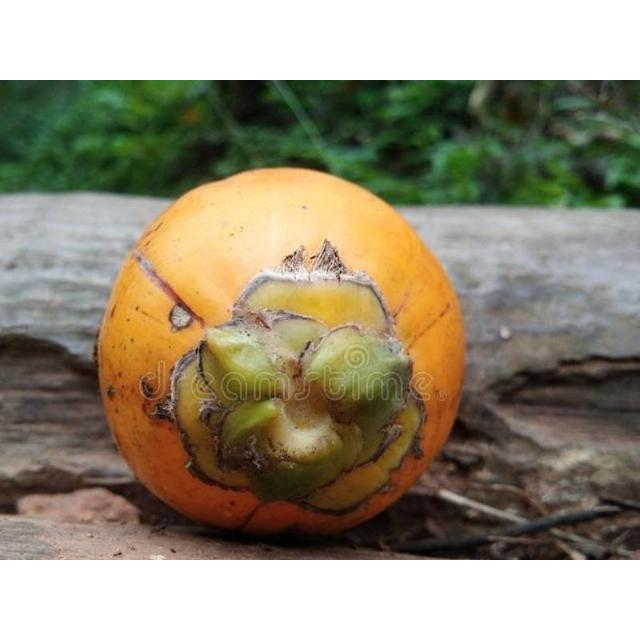good: (95, 168, 466, 542)
